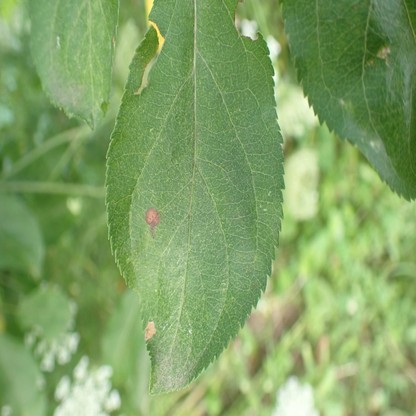frogeye_leaf_spot: (145, 207, 159, 229), (145, 321, 155, 340)
